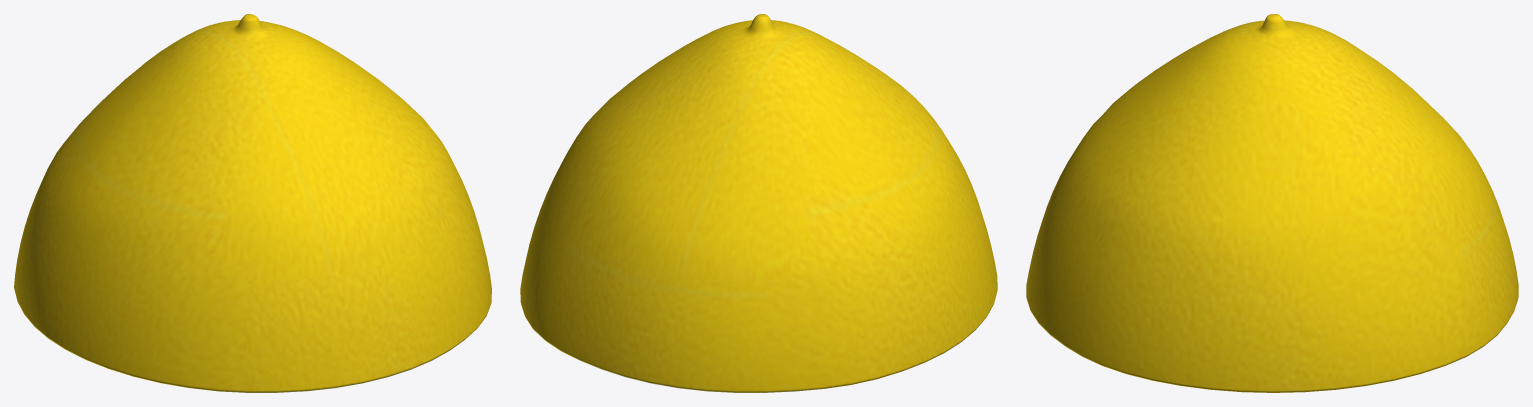
Rendered from lemon_slice.obj.
3 renders of one model, left to right at view 1: azimuth 30°, elevation 25°; view 2: azimuth 150°, elevation 25°; view 3: azimuth 270°, elevation 25°, orthographic.
Parts seen in each view (by area): view 1: pSphere6.003_Untitled.011; view 2: pSphere6.003_Untitled.011; view 3: pSphere6.003_Untitled.011.
Part boxes in pixels (x1=…): pSphere6.003_Untitled.011: x1=14, y1=14, x2=491, y2=392; pSphere6.003_Untitled.011: x1=520, y1=14, x2=997, y2=392; pSphere6.003_Untitled.011: x1=1026, y1=14, x2=1518, y2=392.
Size of the model in its own units: 0.1477 by 0.0983 by 0.1537.
Materials: 1 (1 with a texture image).
